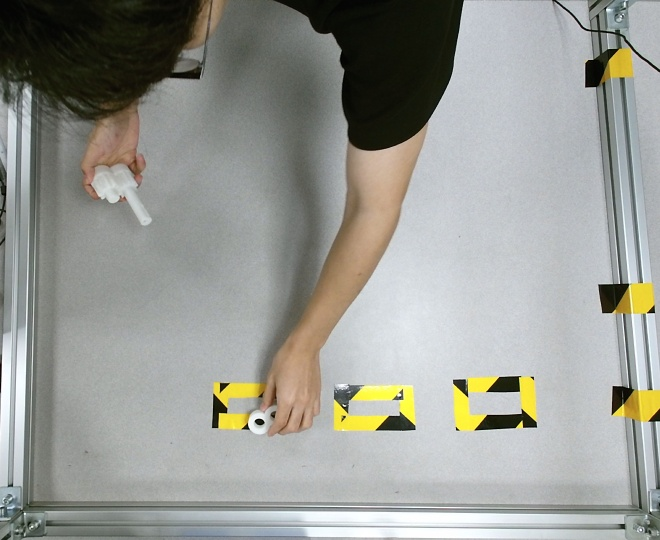stage_3: (88, 162, 152, 228)
